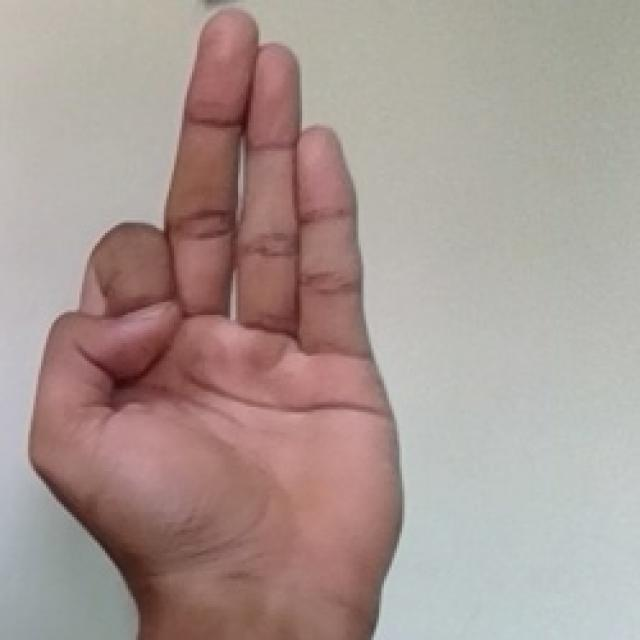Numeric-9: (26, 12, 403, 618)
